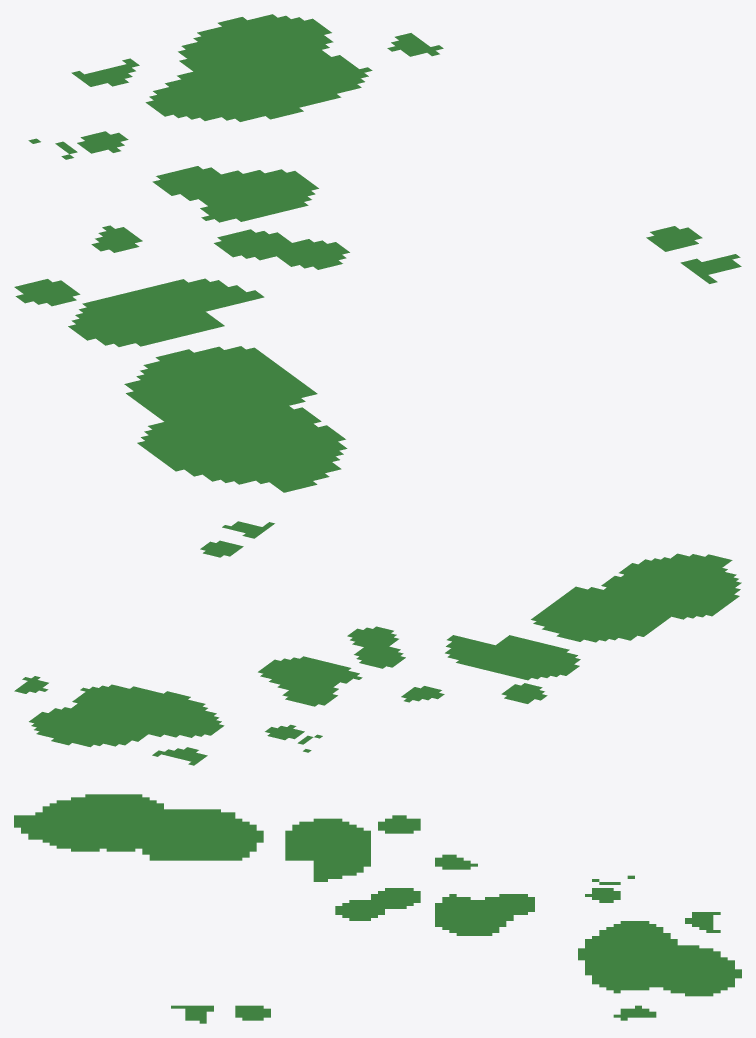
The model's file is Isl-bot4-TreesArea.fbx.
3 renders of one model, top to bottom at view 1: azimuth 30°, elevation 25°; view 2: azimuth 150°, elevation 25°; view 3: azimuth 270°, elevation 25°, orthographic. The views are drawn at different scales.
Parts seen in each view (by area): view 1: Isl-bot4-TreesArea; view 2: Isl-bot4-TreesArea; view 3: Isl-bot4-TreesArea.
Part boxes in pixels (left/top/right/bottom): Isl-bot4-TreesArea: left=14, top=14, right=741, bottom=492; Isl-bot4-TreesArea: left=14, top=521, right=741, bottom=765; Isl-bot4-TreesArea: left=14, top=794, right=741, bottom=1023.
Bounding box in the file's own units: 76 × 0 × 102.
